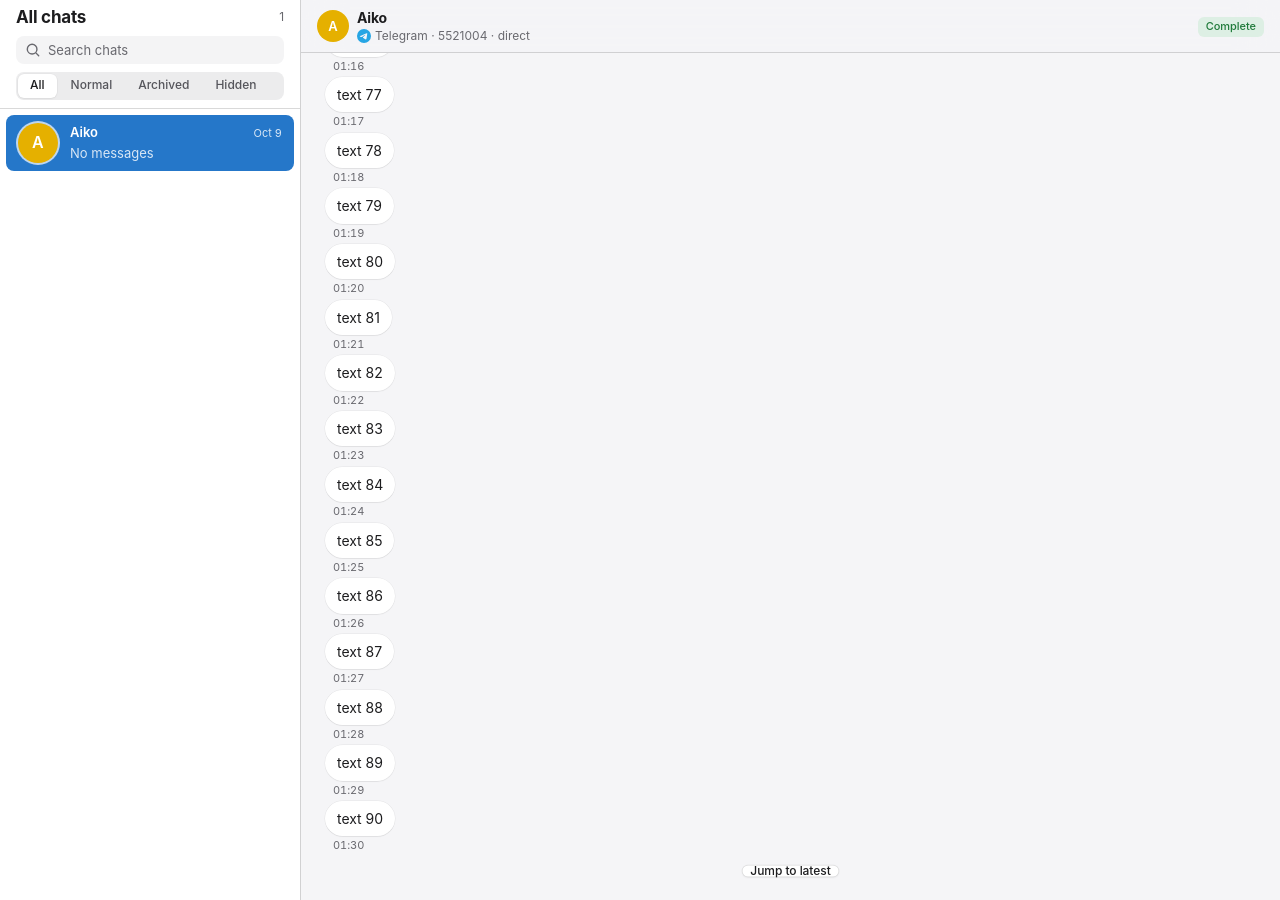
Test: conversations: thread history and the latest-jump › at a search hit, Jump to latest navigates to the chat without around and shows the newest
(page scrolled)
Expected: the text "text 300" is not shown
Step 1. Click the button "Jump to latest" → (790, 871), box [742,865,839,877]
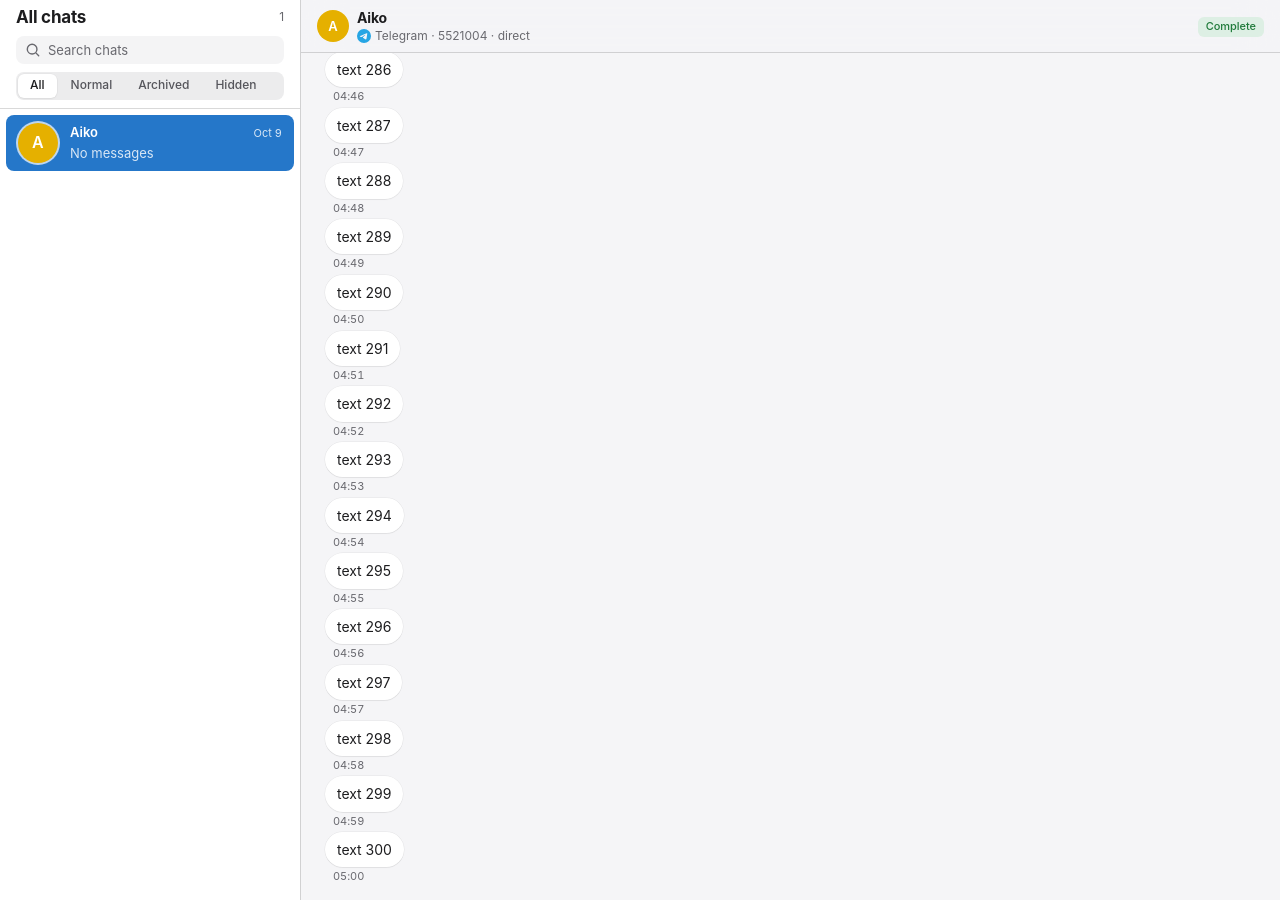
Now the text "text 300" is shown, box [325,832,404,867]
Now the button "Jump to latest" is gone
